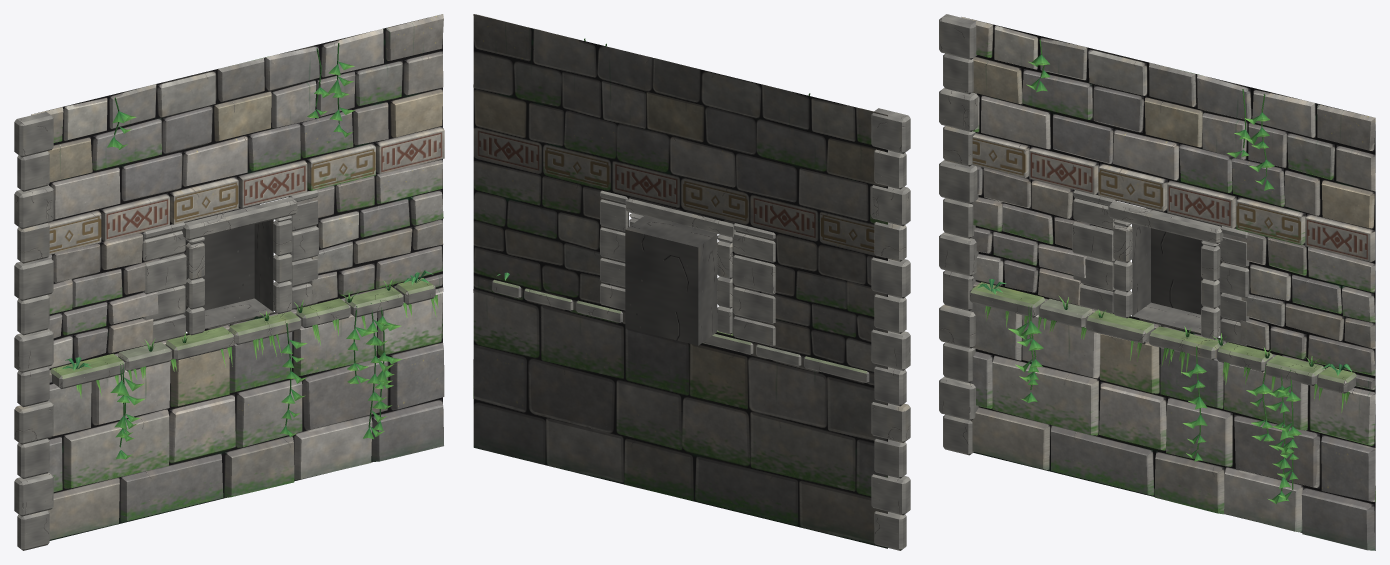
Rendered from pit_wall_niche.glb.
The picture shows the model from 3 angles, left to right: view 1: azimuth 30°, elevation 25°; view 2: azimuth 150°, elevation 25°; view 3: azimuth 330°, elevation 25°; orthographic projection.
Visible parts, largest first — view 1: pit_wall_niche_face, pit_wall_niche_blocks, pit_wall_niche_green; view 2: pit_wall_niche_face, pit_wall_niche_blocks; view 3: pit_wall_niche_face, pit_wall_niche_blocks, pit_wall_niche_green.
Part boxes in pixels (x1,y1,x2,y2): pit_wall_niche_face: (31, 14, 444, 540); pit_wall_niche_blocks: (14, 111, 435, 550); pit_wall_niche_green: (61, 43, 438, 459); pit_wall_niche_face: (473, 14, 887, 548); pit_wall_niche_blocks: (492, 108, 910, 550); pit_wall_niche_face: (961, 17, 1375, 550); pit_wall_niche_blocks: (939, 14, 1356, 455); pit_wall_niche_green: (977, 39, 1351, 503).
Bounding box in the file's own units: 12.51 × 12.01 × 2.
3 materials, 3 textured.
